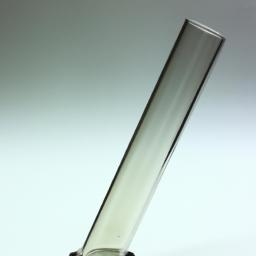Test tube: (73, 8, 231, 255)
